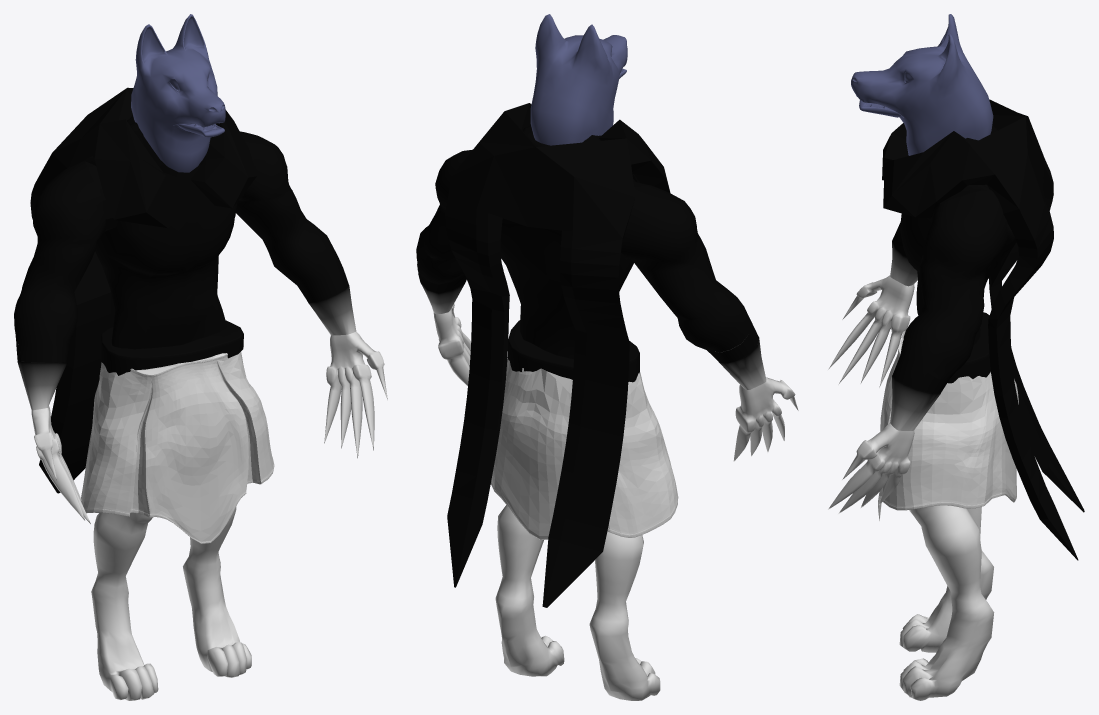
The model's file is anubis_peruvs.fbx.
The picture shows the model from 3 angles, left to right: view 1: azimuth 30°, elevation 25°; view 2: azimuth 150°, elevation 25°; view 3: azimuth 270°, elevation 25°; orthographic projection. The views are drawn at different scales.
Parts seen in each view (by area): view 1: AnubisChetado; view 2: AnubisChetado; view 3: AnubisChetado.
Part boxes in pixels (x1=…): AnubisChetado: x1=14, y1=14, x2=387, y2=700; AnubisChetado: x1=416, y1=14, x2=798, y2=700; AnubisChetado: x1=828, y1=14, x2=1084, y2=700.
Bounding box in the file's own units: 59.87 × 108 × 38.77.
